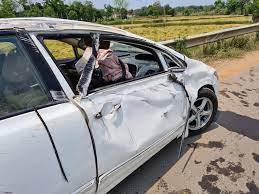doorouter-dent: (89, 75, 188, 183)
fender-dent: (176, 57, 217, 105)
pillar-dent: (13, 21, 68, 106), (153, 35, 171, 88)
roof-dent: (0, 18, 129, 32)
